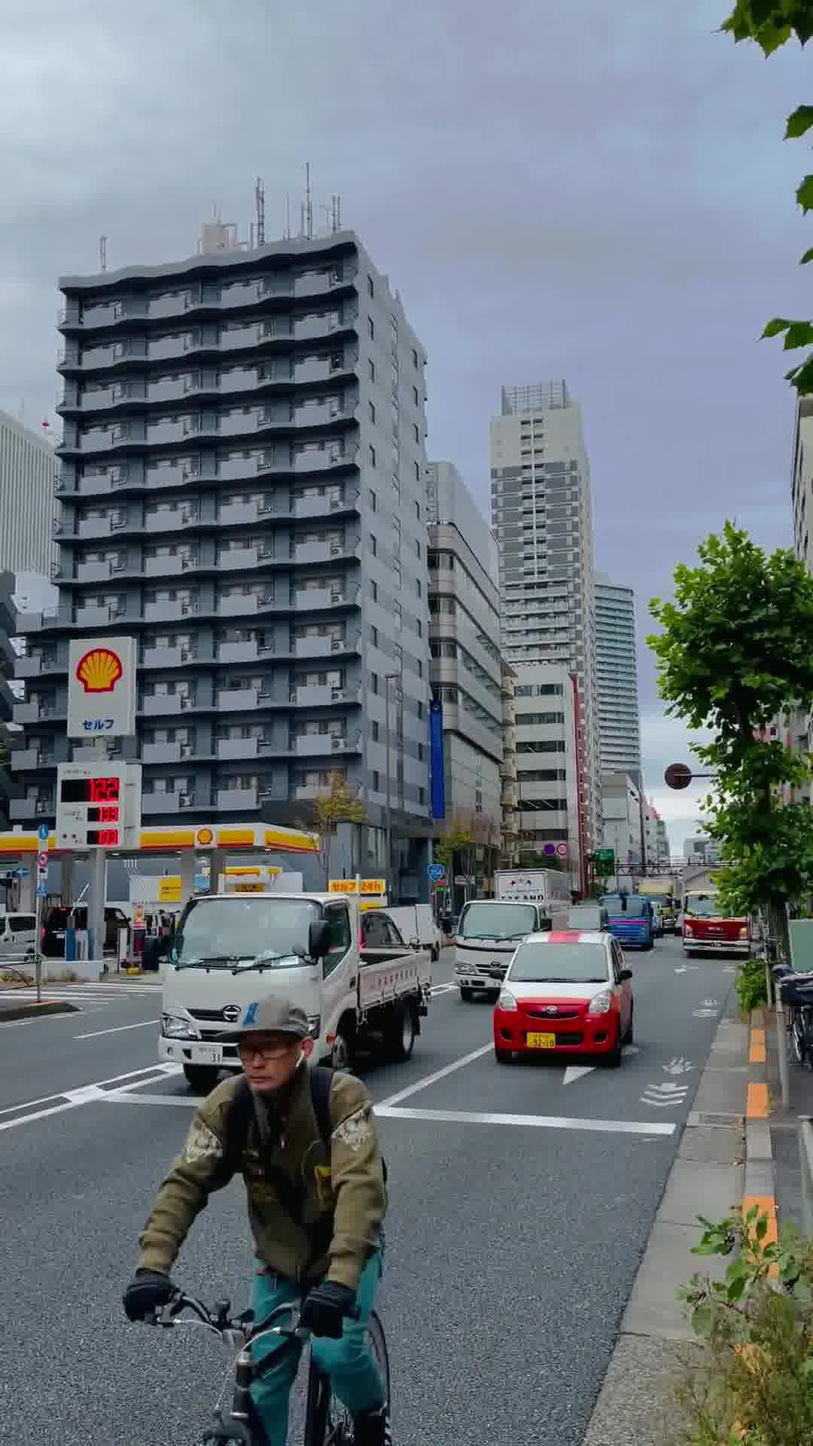car: (152, 869, 394, 1047), (293, 880, 444, 1045), (486, 921, 621, 1061)
person: (124, 952, 395, 1446)
